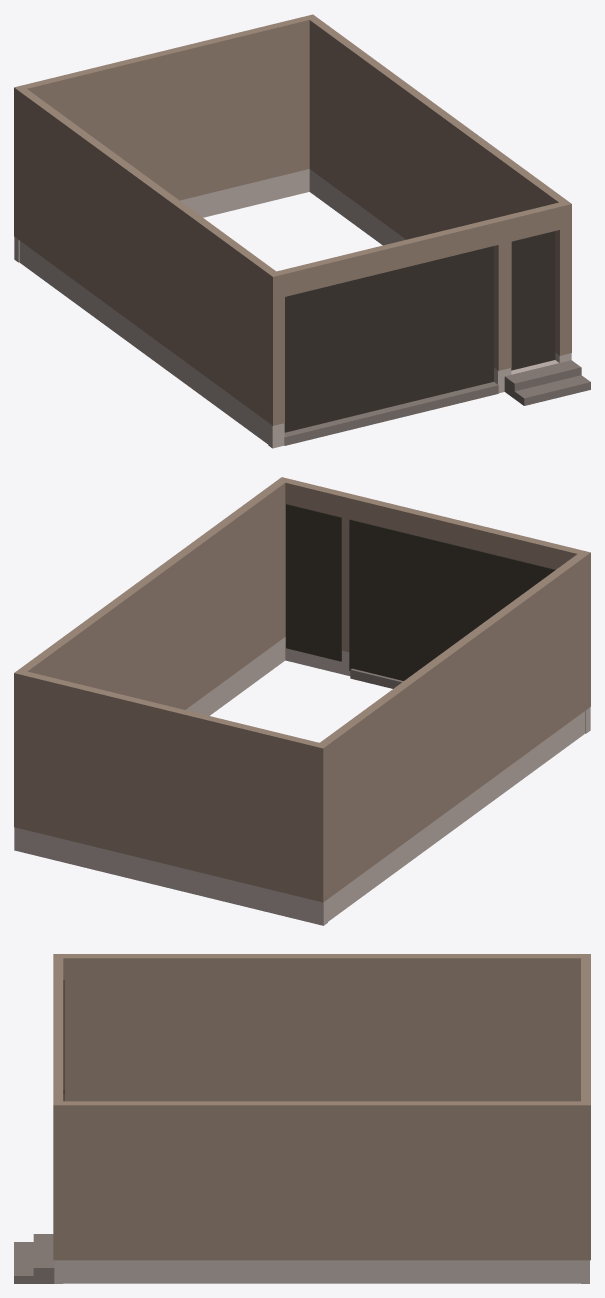
The model's file is SM_Floor_ShopGround_546_DoorR_Tile_01.gltf.
3 views of the same model, one above another, from view 1: azimuth 30°, elevation 25°; view 2: azimuth 150°, elevation 25°; view 3: azimuth 270°, elevation 25° (orthographic). The views are drawn at different scales.
Parts seen in each view (by area): view 1: SM_Floor_ShopGround_546_DoorR_Tile_01; view 2: SM_Floor_ShopGround_546_DoorR_Tile_01; view 3: SM_Floor_ShopGround_546_DoorR_Tile_01.
Boxes of the visible parts, bbox=[...] form: SM_Floor_ShopGround_546_DoorR_Tile_01: bbox=[14, 14, 590, 448]; SM_Floor_ShopGround_546_DoorR_Tile_01: bbox=[14, 477, 590, 925]; SM_Floor_ShopGround_546_DoorR_Tile_01: bbox=[14, 954, 590, 1283].
Bounding box in the file's own units: 5.46 × 3 × 8.79.
1 material, 1 textured.
